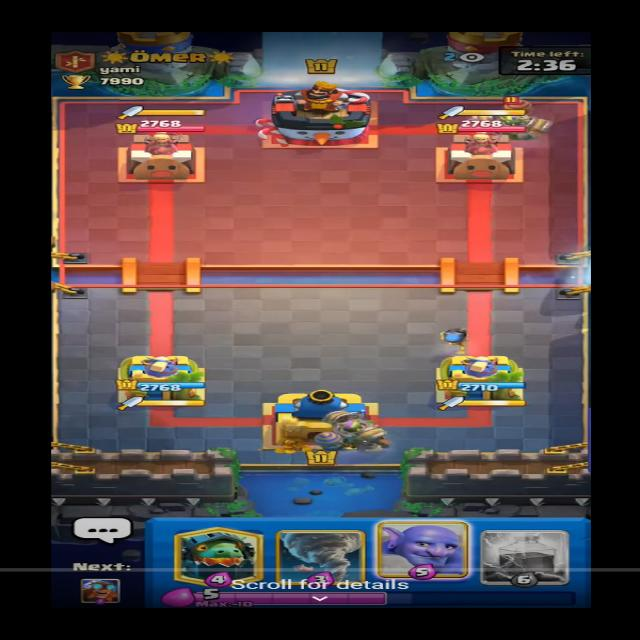Goblinmachine: (478, 98, 557, 152)
